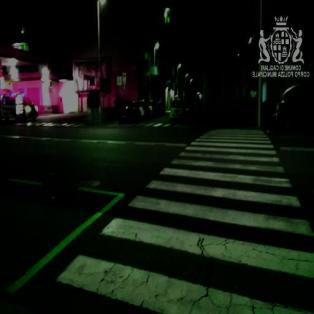Paso de Cebra: (49, 219, 314, 314), (142, 166, 308, 210), (176, 144, 280, 161)
